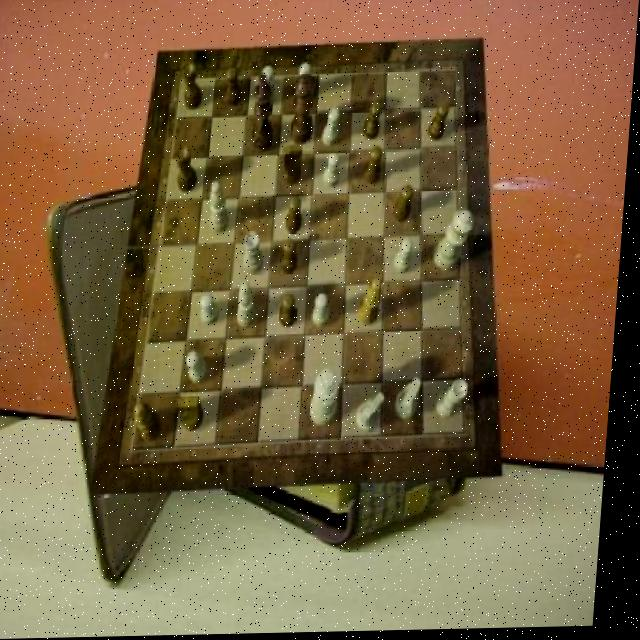bishop: (139, 403, 170, 443), (362, 281, 388, 327)
black-bishop: (252, 75, 279, 155)
black-king: (182, 397, 212, 434), (282, 144, 306, 187)
black-knight: (430, 104, 452, 143), (365, 102, 385, 141), (396, 188, 417, 224), (226, 69, 245, 108), (366, 148, 385, 186), (289, 198, 307, 235), (284, 239, 303, 274), (284, 296, 303, 330)
black-pawn: (291, 73, 318, 147)
black-queen: (176, 147, 203, 195), (181, 63, 207, 112)
black-rook: (212, 183, 235, 236), (241, 283, 263, 329)
white-bishop: (317, 369, 347, 427)
white-king: (362, 394, 392, 435), (401, 380, 428, 422)
white-knight: (191, 351, 214, 386), (261, 66, 280, 108), (204, 294, 226, 327), (324, 109, 342, 148), (397, 240, 417, 275), (297, 64, 315, 101), (317, 295, 336, 330), (326, 154, 344, 189)
white-pawn: (437, 212, 478, 274)
white-queen: (443, 382, 475, 420), (247, 232, 270, 275)
